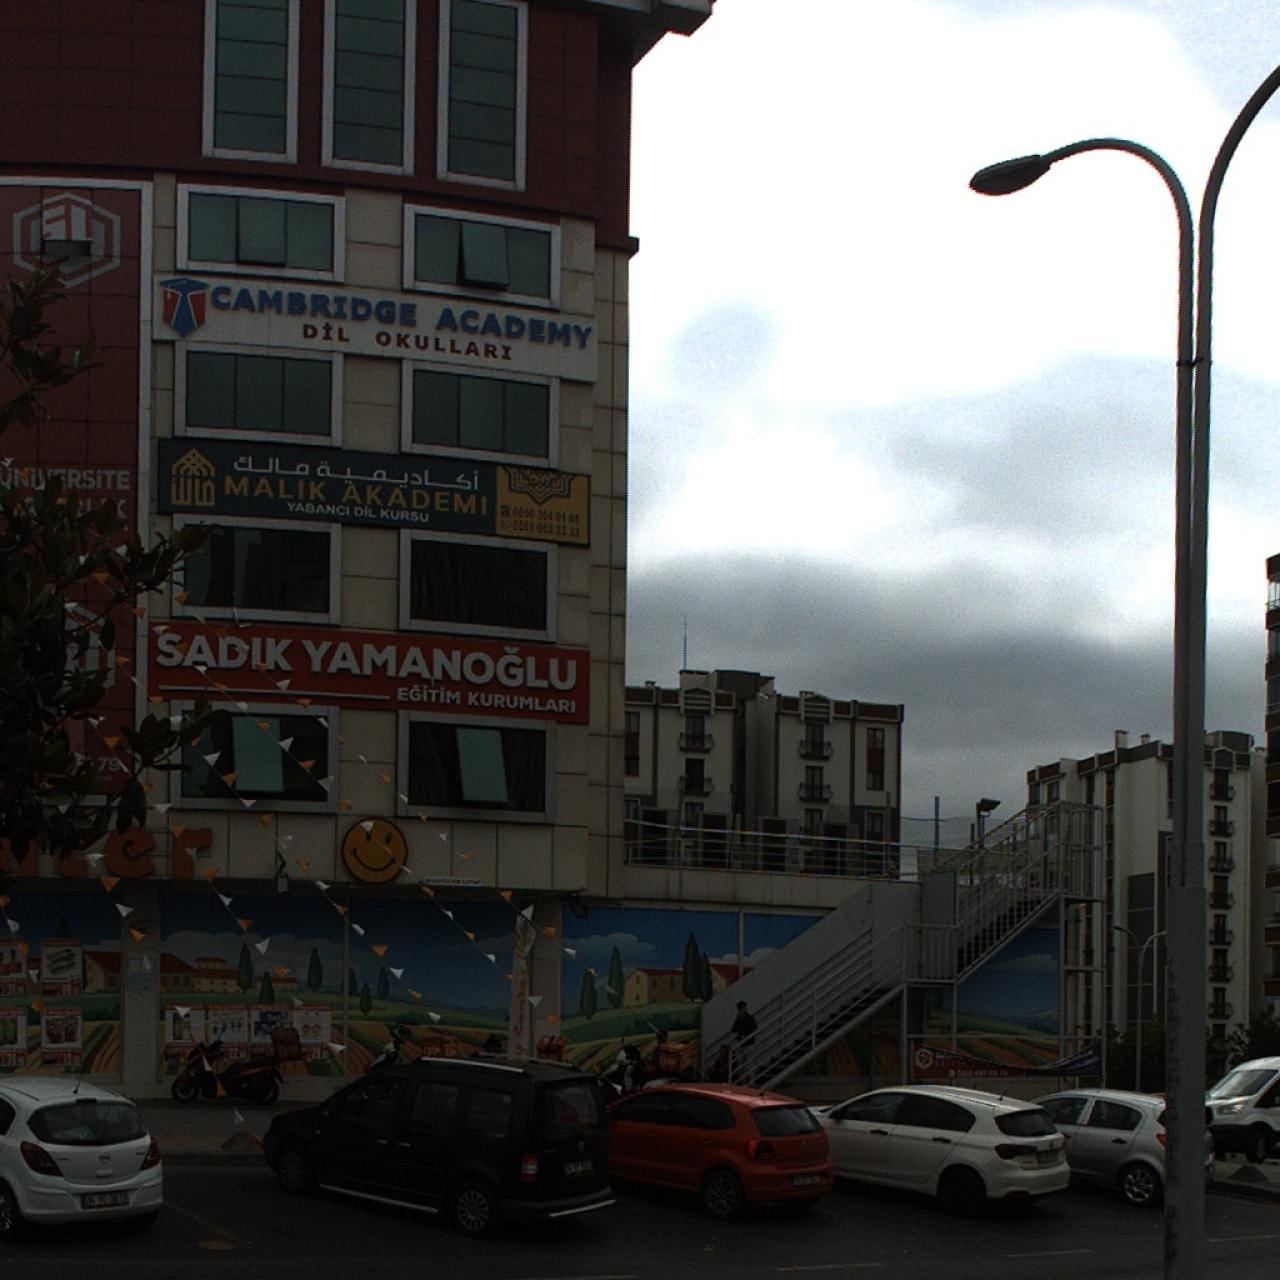SignStore: (154, 275, 599, 384), (157, 437, 591, 549), (148, 621, 590, 724), (4, 806, 409, 884)
